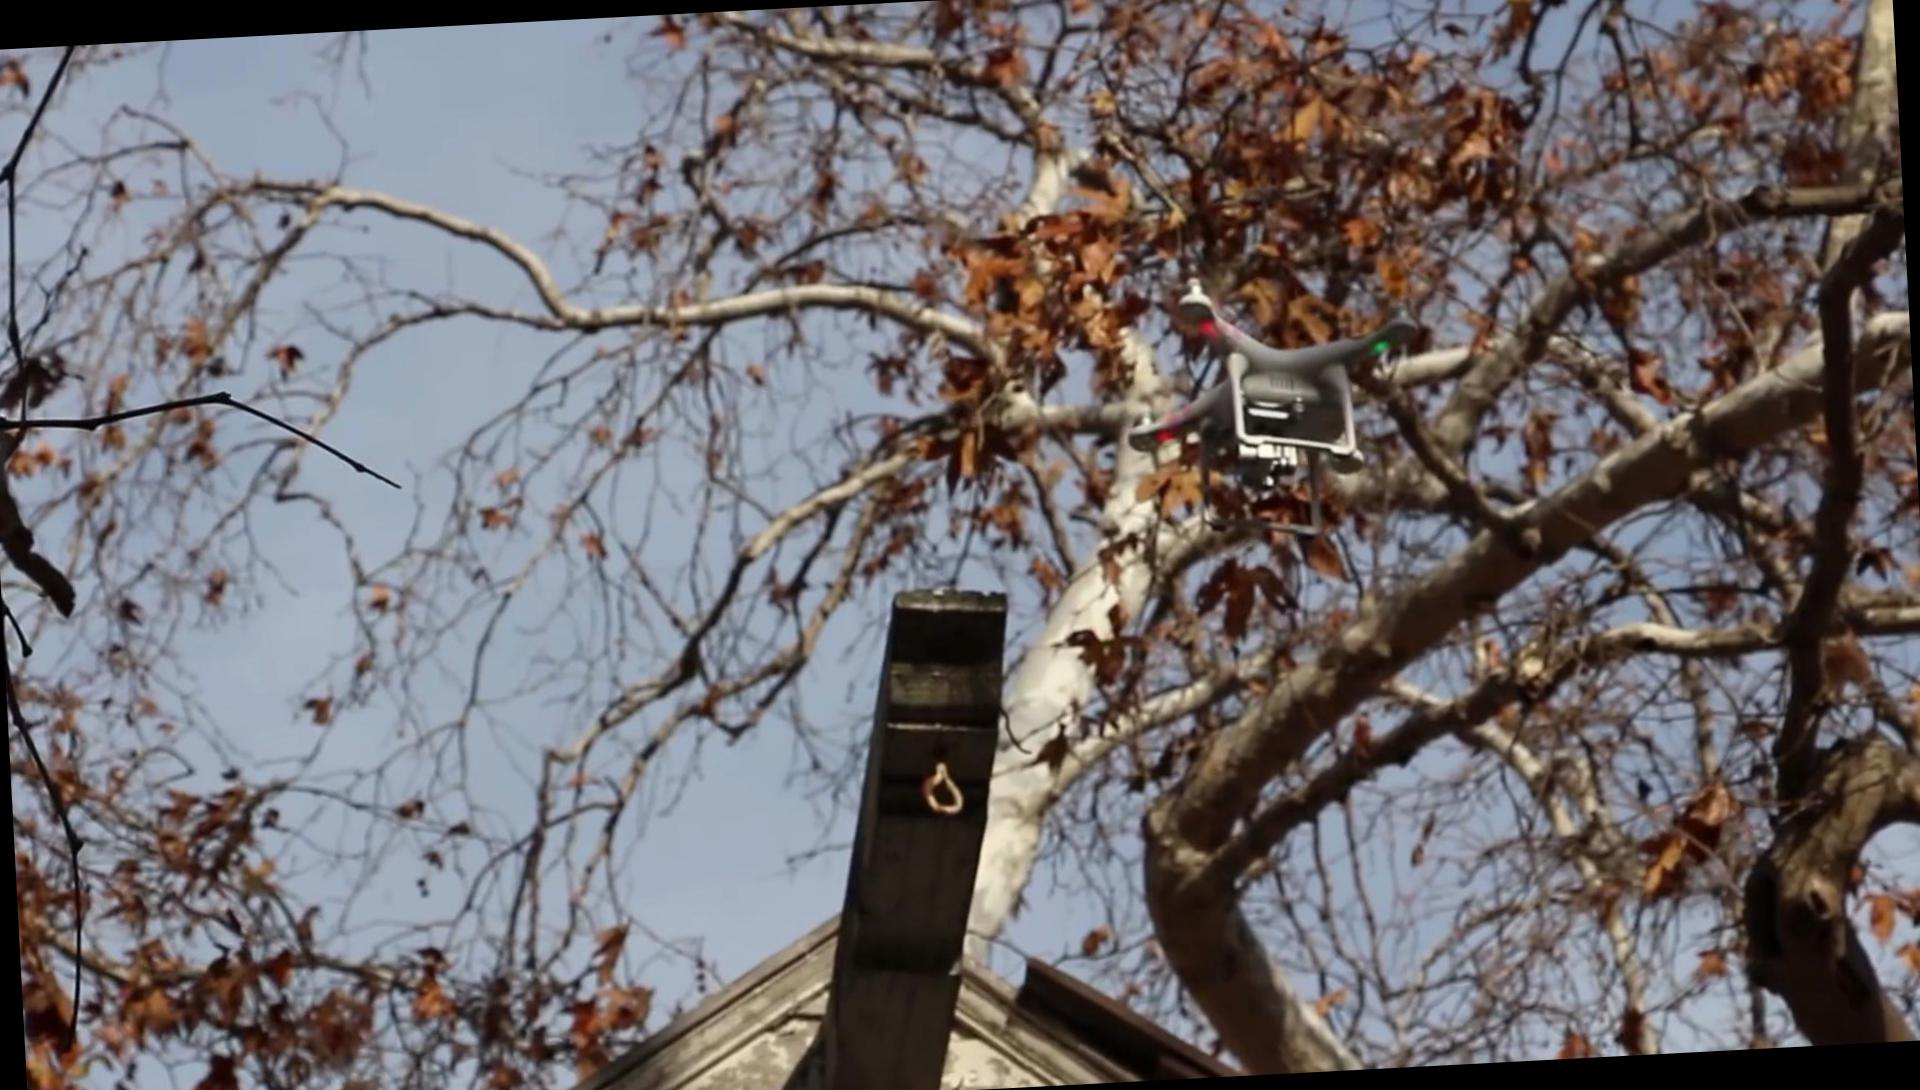drone: (1120, 256, 1437, 532)
